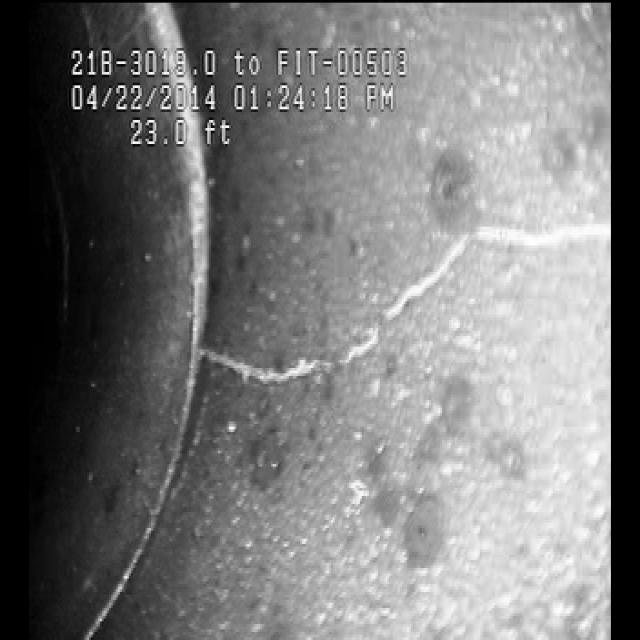Crack: (211, 198, 579, 430)
